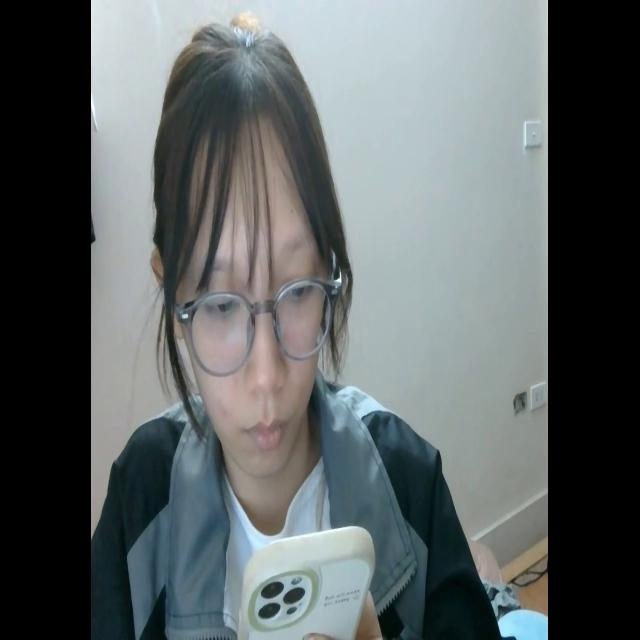phone: (236, 515, 376, 640)
student: (93, 17, 503, 640)
